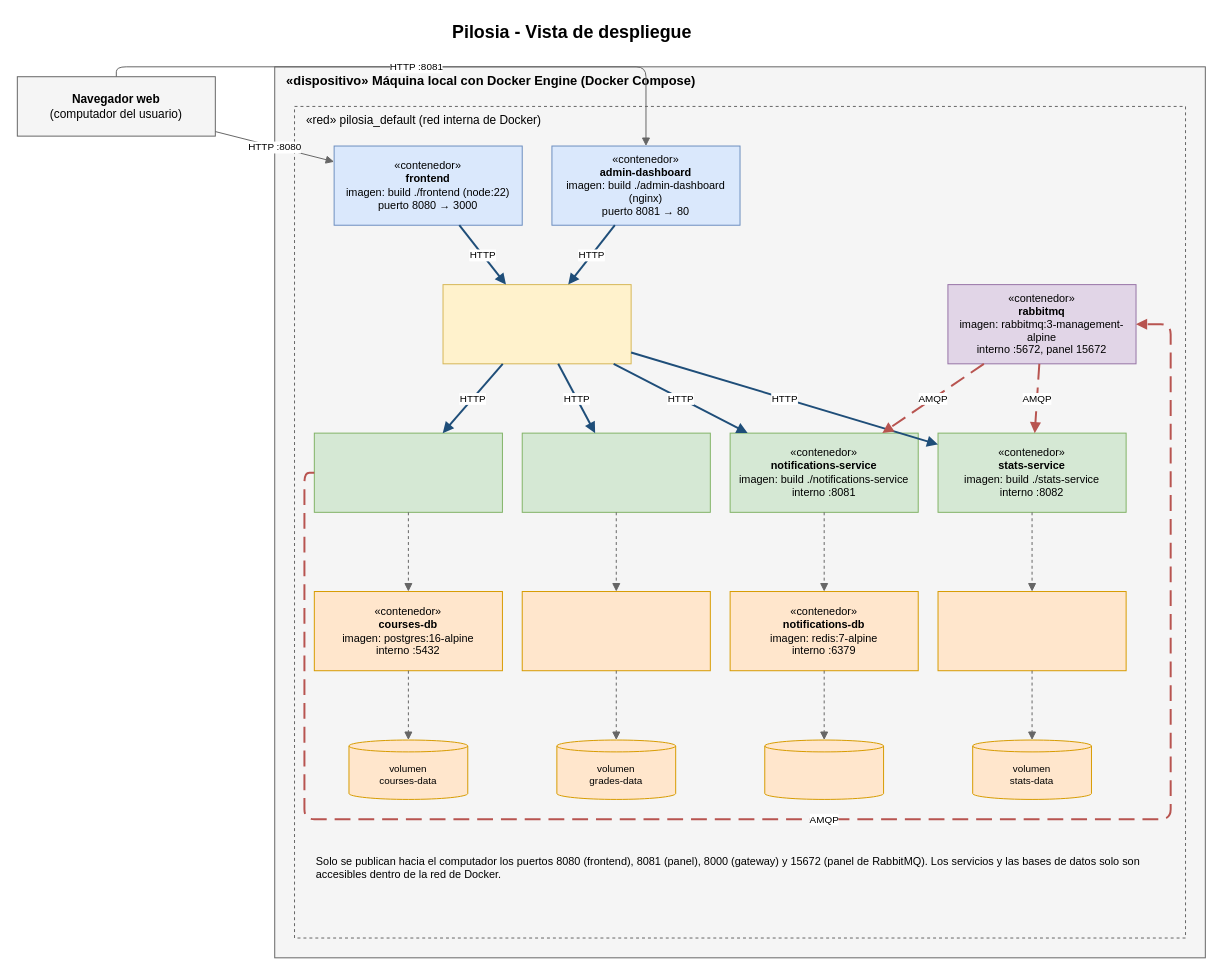
Image size: 1223x975. Some labels were removed from this diagram. The shapes that lost their labels are listed below. From the top down, each one's box as (x1, y1, x2, y2) in pixels, then its label:
(442, 284, 631, 364): «contenedor» api-gateway imagen: build ./api-gateway (Go) puerto 8000 → 8080
(313, 432, 502, 512): «contenedor» courses-service imagen: build ./courses-service interno :8000
(521, 432, 710, 512): «contenedor» grades-service imagen: build ./grades-service interno :4000
(521, 591, 710, 671): «contenedor» grades-db imagen: mongo:7 interno :27017
(937, 591, 1126, 671): «contenedor» stats-db imagen: postgres:16-alpine interno :5432
(764, 739, 884, 799): volumen notifications-data
